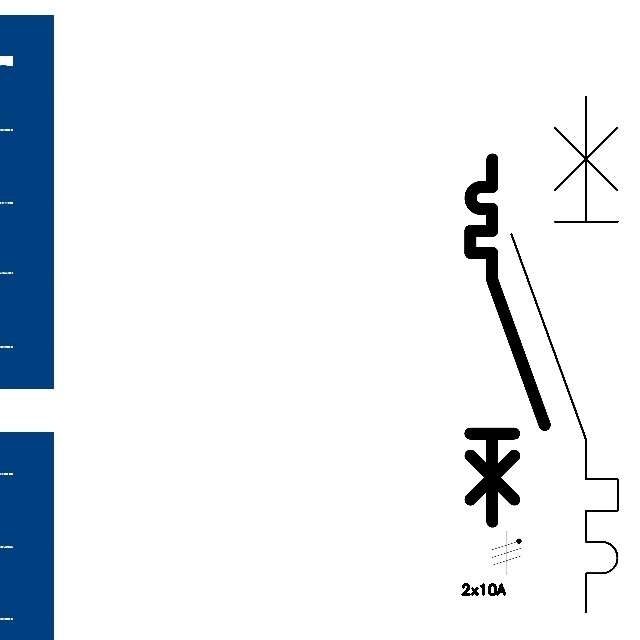interruptor_termomagnetico: (498, 83, 631, 626), (461, 150, 554, 530)
